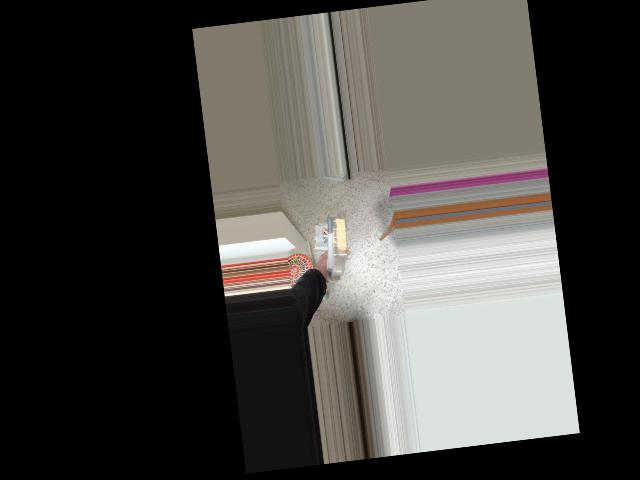cheese: (287, 212, 368, 272)
